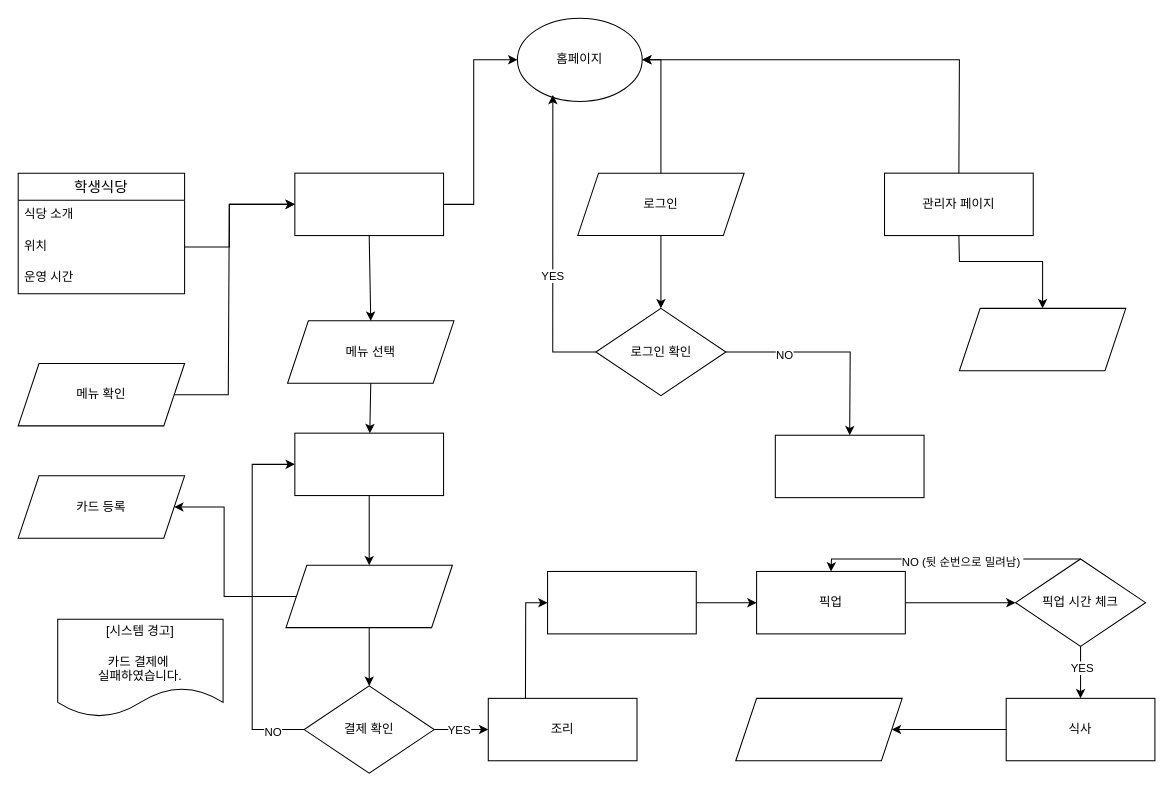
The diagram is 1173 pixels wide and 791 high, and some of its shapes have lost their labels. The shapes that lost their labels are listed below. From the top down, each one's centre as x and y in pixels, then its label:
At (x=369, y=204): "식당 정보".
At (x=1042, y=339): "메뉴 추가/수장/삭제".
At (x=369, y=464): "주문".
At (x=849, y=466): "회원가입 폼".
At (x=368, y=596): "카드 결제".
At (x=621, y=602): "번호표 발행".
At (x=818, y=729): "피드백 작성".
